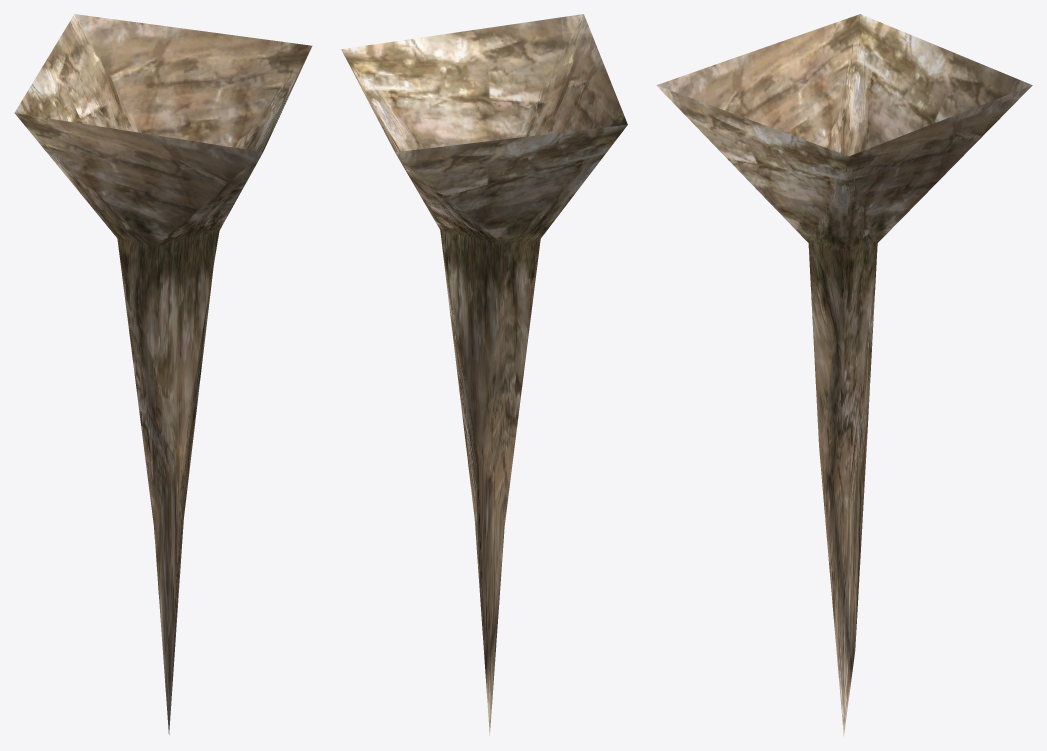
The model's file is thm_all_cave_stalagtite_a3_l2.fbx.
The picture shows the model from 3 angles, left to right: view 1: azimuth 30°, elevation 25°; view 2: azimuth 150°, elevation 25°; view 3: azimuth 270°, elevation 25°; orthographic projection.
Parts seen in each view (by area): view 1: mesh_node; view 2: mesh_node; view 3: mesh_node.
Part boxes in pixels (x1,y1,x2,y2): mesh_node: [14, 14, 312, 734]; mesh_node: [341, 14, 627, 735]; mesh_node: [656, 14, 1032, 736].
Bounding box in the file's own units: 1.23 × 2.62 × 1.37.
